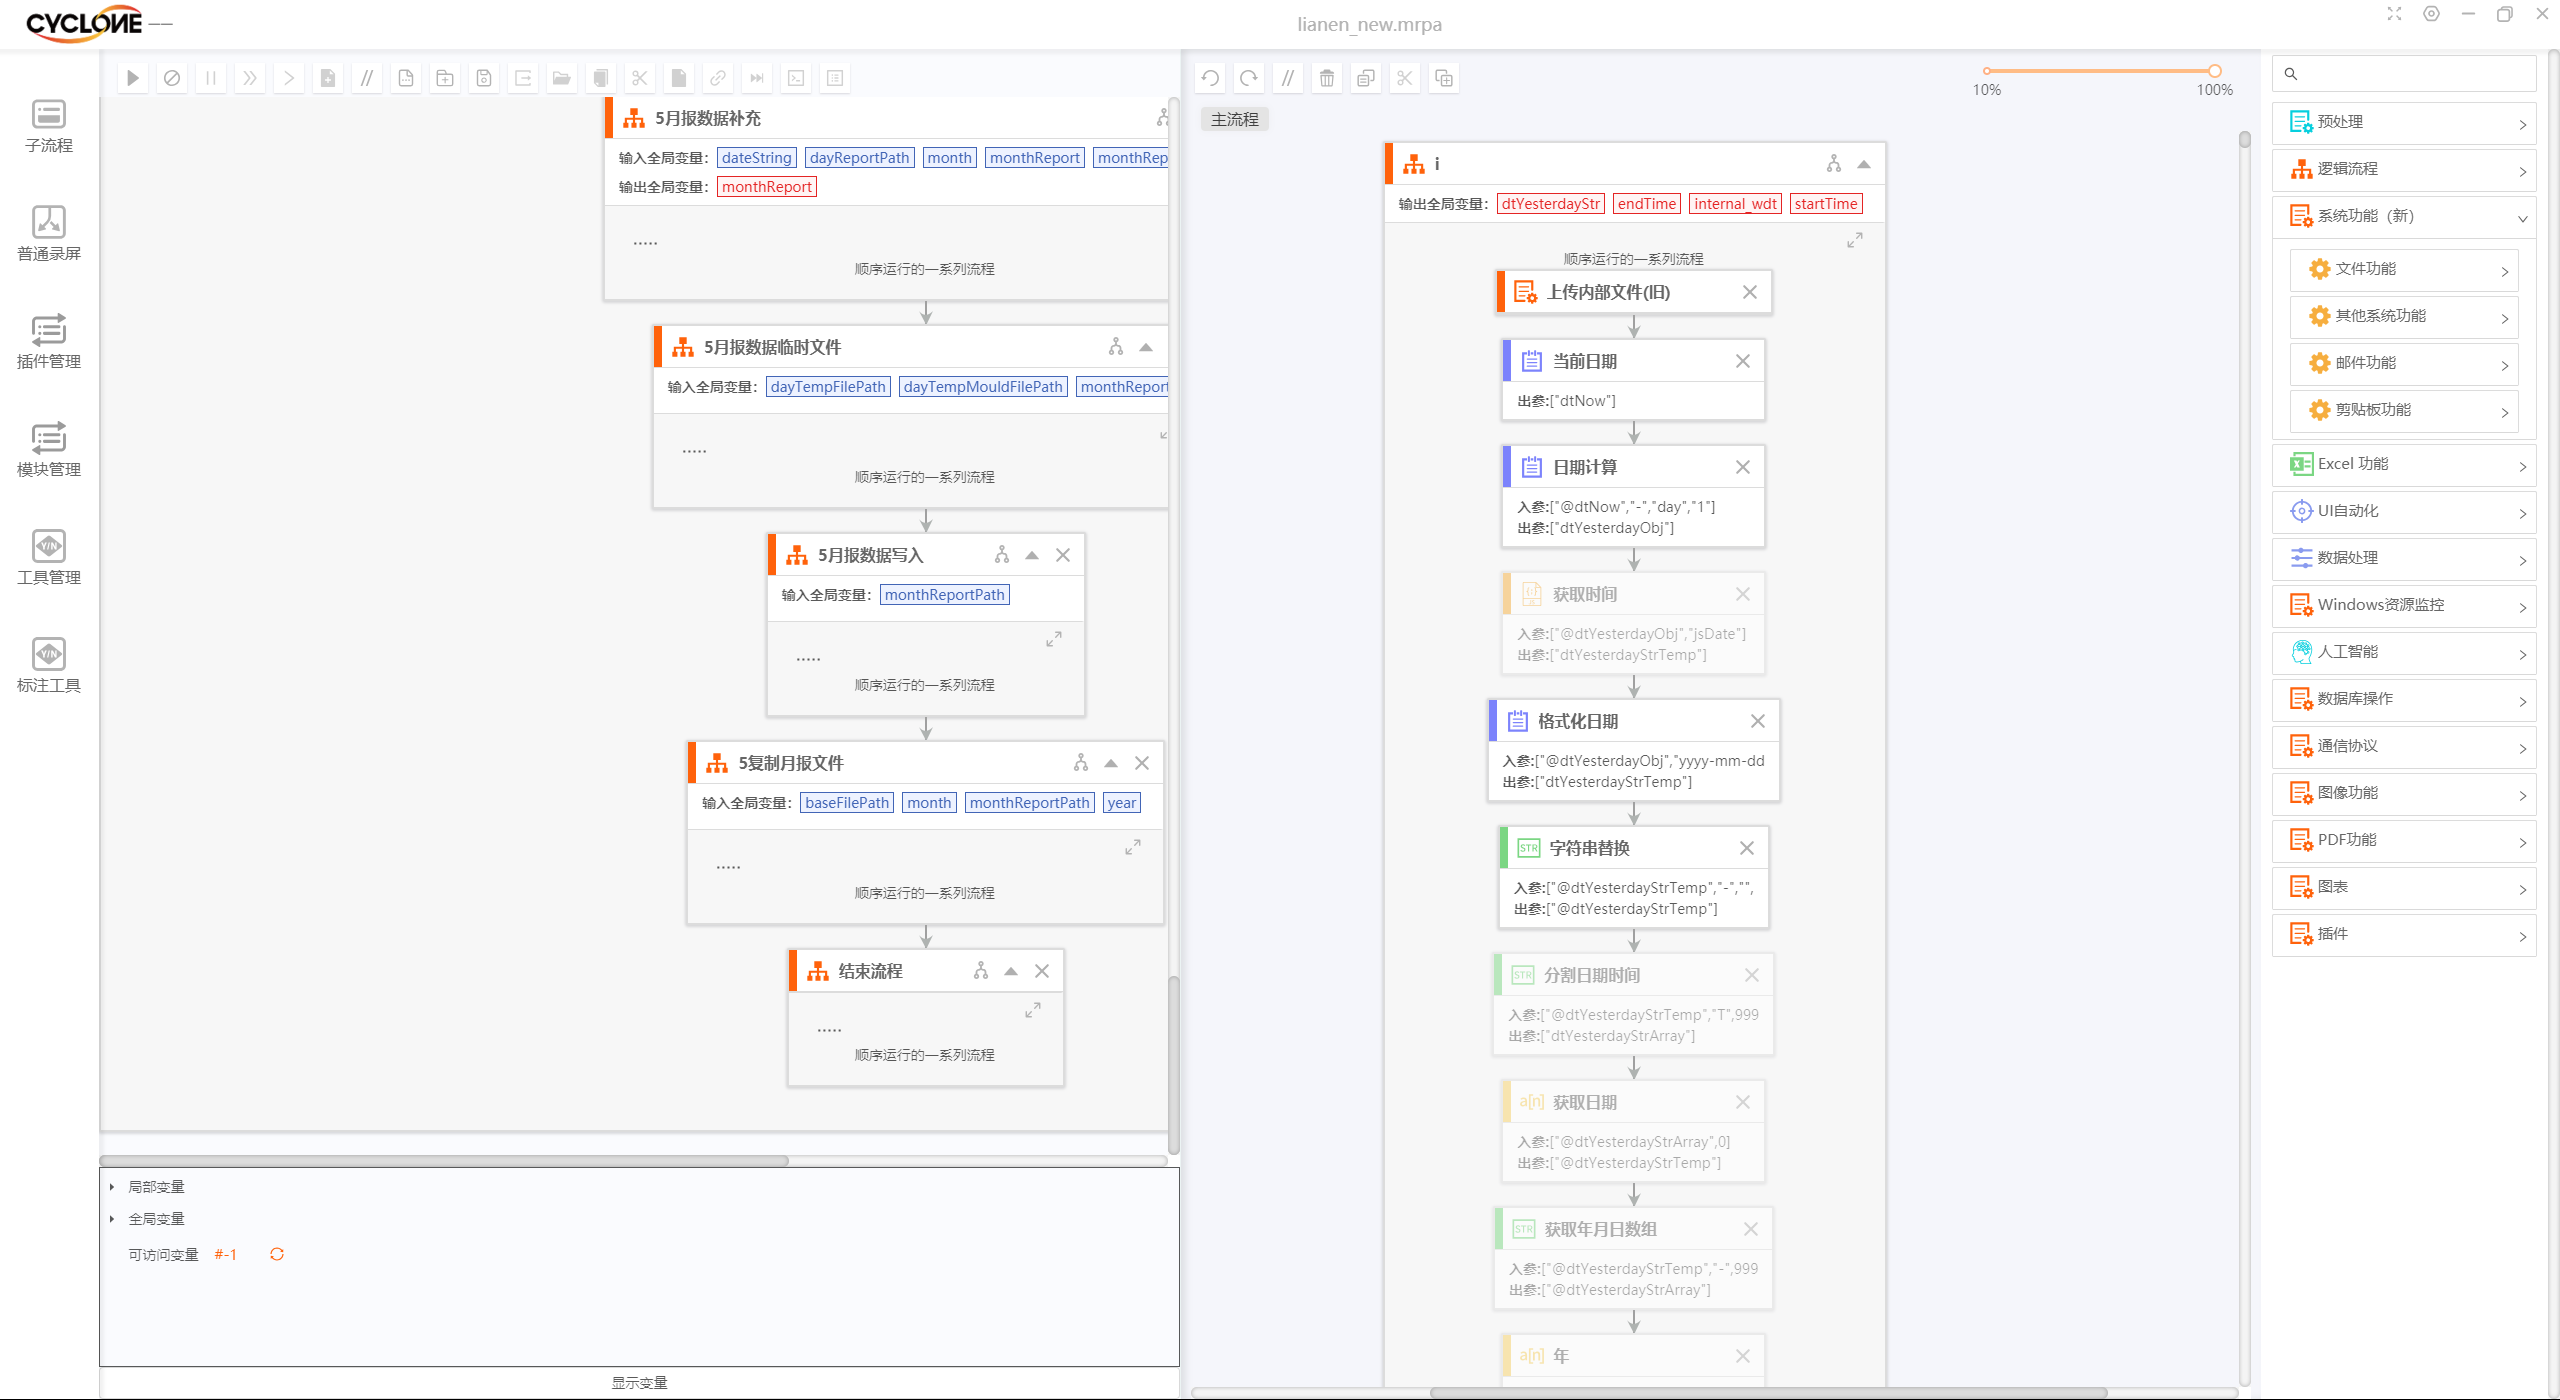character: (1514, 622, 1746, 645), (1510, 878, 1762, 897), (1505, 1007, 1762, 1024), (1515, 645, 1712, 667), (1515, 898, 1726, 919), (1288, 14, 1450, 40), (898, 374, 1071, 398), (1503, 1262, 1762, 1278), (1508, 1281, 1714, 1300), (1507, 1028, 1705, 1047), (1514, 1155, 1731, 1172), (1503, 753, 1769, 767), (1517, 498, 1719, 516), (1503, 774, 1700, 791), (964, 791, 1096, 816), (2319, 591, 2450, 616), (1514, 1134, 1734, 1148), (857, 259, 1003, 279), (879, 584, 1014, 607), (1564, 247, 1708, 267), (764, 376, 891, 398), (1517, 521, 1683, 538), (852, 883, 996, 902), (853, 467, 996, 486), (852, 1047, 995, 1066), (703, 336, 843, 355), (1550, 283, 1674, 303), (2338, 302, 2431, 329), (798, 791, 896, 816), (853, 679, 1003, 695), (805, 147, 915, 167), (1496, 193, 1607, 214), (984, 145, 1086, 167), (1076, 374, 1169, 398), (717, 178, 815, 200), (821, 547, 926, 566), (740, 753, 841, 772), (1517, 391, 1619, 410), (1691, 195, 1784, 216), (1546, 966, 1639, 986), (2319, 779, 2382, 809), (1538, 710, 1620, 733), (653, 110, 760, 128), (2319, 690, 2395, 714), (2320, 207, 2415, 226), (1791, 191, 1865, 216), (1203, 103, 1272, 129), (715, 145, 795, 167), (598, 1371, 677, 1393), (617, 148, 710, 167), (1545, 1222, 1658, 1238), (1552, 1091, 1629, 1114), (2317, 452, 2393, 474), (2317, 828, 2382, 853), (1552, 838, 1633, 859), (702, 795, 790, 814), (2320, 498, 2389, 522), (2319, 733, 2388, 757), (2338, 400, 2415, 421), (779, 586, 871, 603), (669, 379, 759, 397), (2319, 641, 2382, 666), (122, 1247, 203, 1266), (1093, 148, 1167, 169), (1553, 584, 1620, 607), (1395, 198, 1489, 214), (617, 179, 709, 195), (898, 791, 960, 814), (840, 960, 907, 981), (1614, 193, 1681, 214), (2338, 259, 2403, 279), (14, 676, 84, 695), (921, 145, 976, 169), (14, 245, 83, 264), (14, 567, 83, 586), (1553, 352, 1619, 371), (2317, 109, 2367, 133), (1552, 459, 1620, 476), (2320, 160, 2382, 179), (16, 352, 83, 369), (16, 460, 83, 478), (2338, 353, 2398, 372), (2319, 548, 2384, 566), (22, 133, 74, 153), (128, 1181, 205, 1195), (129, 1212, 198, 1228), (1103, 790, 1141, 814), (2315, 878, 2355, 900), (1969, 79, 2008, 98), (2196, 83, 2238, 98), (2317, 928, 2357, 943), (1555, 1347, 1577, 1367), (214, 1248, 240, 1264)
icon: (22, 3, 145, 41), (29, 310, 67, 348), (29, 528, 67, 566), (29, 634, 67, 672), (29, 203, 67, 240), (29, 419, 67, 455), (29, 97, 67, 131), (1272, 64, 1303, 93), (353, 64, 383, 93), (117, 62, 147, 91), (703, 64, 733, 93), (195, 64, 226, 91), (507, 64, 538, 91), (391, 64, 421, 91), (664, 64, 693, 91), (546, 64, 576, 91), (1233, 64, 1262, 91), (1352, 64, 1381, 91), (1389, 64, 1419, 91), (314, 64, 341, 91), (469, 64, 496, 91), (626, 64, 653, 91), (781, 64, 809, 91), (821, 64, 848, 91), (1314, 64, 1341, 91), (155, 64, 184, 90), (234, 64, 264, 90), (429, 64, 459, 90), (2288, 448, 2313, 478), (586, 64, 614, 90), (1196, 64, 1224, 90), (1431, 64, 1457, 91), (1512, 276, 1538, 303), (2288, 107, 2313, 134), (2288, 590, 2313, 617), (2288, 778, 2313, 805), (2288, 919, 2313, 947), (674, 441, 710, 460), (710, 859, 746, 878), (812, 1021, 848, 1040), (276, 64, 302, 90), (2288, 684, 2313, 710), (2288, 826, 2313, 852), (2288, 733, 2313, 759), (2288, 872, 2313, 898), (1507, 705, 1529, 734), (633, 233, 667, 252), (2289, 202, 2313, 228), (2289, 638, 2313, 664), (1517, 834, 1541, 860), (1519, 1090, 1545, 1114), (1520, 452, 1543, 479), (1520, 578, 1543, 605), (2308, 303, 2332, 328), (2289, 498, 2313, 522), (2289, 545, 2313, 569), (1510, 962, 1534, 986), (265, 1245, 290, 1269), (1520, 347, 1543, 372), (1519, 1345, 1546, 1366), (745, 67, 769, 90), (2308, 352, 2332, 374), (1512, 1216, 1534, 1240), (2308, 257, 2331, 279), (2308, 398, 2331, 421), (705, 752, 727, 774), (784, 545, 809, 566), (1021, 1000, 1045, 1021), (672, 336, 695, 357), (1403, 153, 1426, 174), (2289, 159, 2312, 179), (807, 960, 829, 981), (622, 109, 645, 128), (1071, 752, 1090, 772), (1122, 836, 1143, 855), (1826, 152, 1843, 174), (2420, 3, 2439, 22), (2494, 5, 2513, 22), (2458, 3, 2477, 21), (2384, 3, 2403, 21), (1053, 545, 1071, 564), (1045, 629, 1064, 647), (1033, 960, 1050, 979), (1734, 1091, 1751, 1110), (1108, 334, 1124, 355), (972, 959, 988, 979), (1741, 283, 1758, 300), (1734, 352, 1751, 369), (1846, 229, 1864, 247), (1734, 459, 1751, 476), (1734, 584, 1751, 602), (1133, 753, 1150, 771), (1734, 1347, 1751, 1364), (995, 543, 1008, 564), (1750, 710, 1765, 728), (1739, 838, 1755, 855), (1745, 966, 1760, 983), (2238, 129, 2251, 148), (2282, 66, 2298, 81), (2534, 5, 2550, 21), (1743, 1221, 1758, 1236), (1157, 107, 1169, 126), (1138, 340, 1153, 353), (1857, 155, 1870, 171), (2207, 64, 2222, 78), (1003, 964, 1019, 978), (1103, 755, 1119, 769), (2515, 647, 2529, 660), (2515, 883, 2529, 897), (1024, 548, 1040, 560), (2517, 929, 2529, 945), (2515, 117, 2527, 131), (2515, 212, 2529, 224), (2500, 359, 2512, 372), (2500, 310, 2510, 326), (2517, 505, 2527, 521), (2500, 264, 2510, 278), (2500, 405, 2510, 419), (2517, 459, 2527, 472), (2517, 600, 2527, 614), (2517, 741, 2527, 755), (2517, 834, 2527, 848), (107, 1214, 117, 1228), (2519, 164, 2527, 179), (2519, 553, 2527, 569), (2519, 788, 2527, 803), (1158, 429, 1169, 441), (107, 1183, 119, 1193), (2519, 695, 2527, 709), (1433, 155, 1439, 171)
